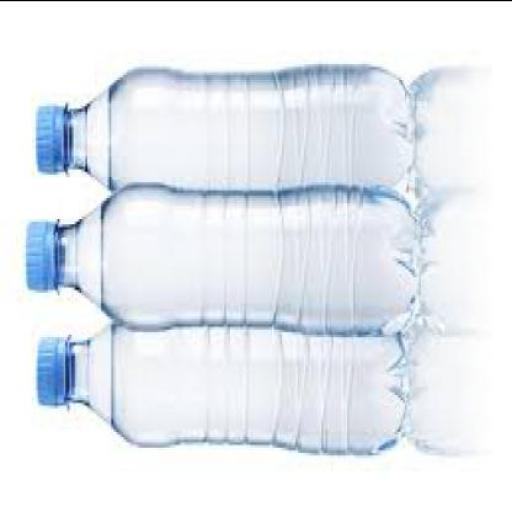plastic: (24, 186, 419, 336), (31, 65, 413, 218), (36, 320, 407, 457), (22, 218, 62, 294), (32, 102, 71, 176), (34, 338, 69, 412)
